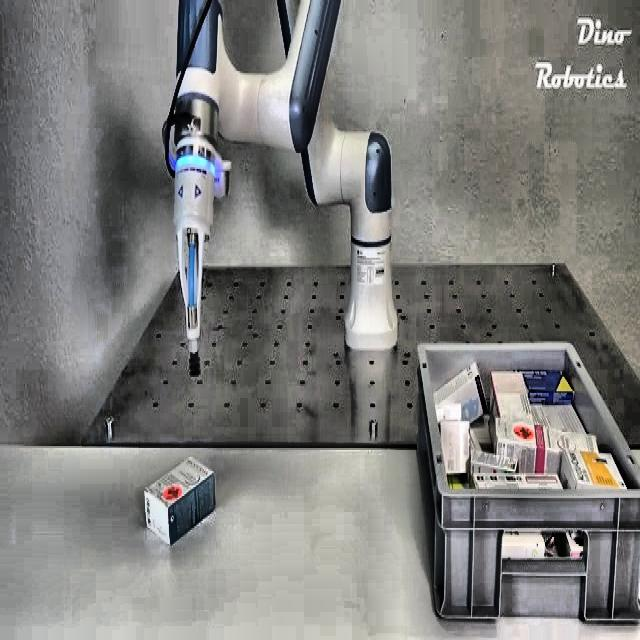robot: (161, 0, 398, 375)
